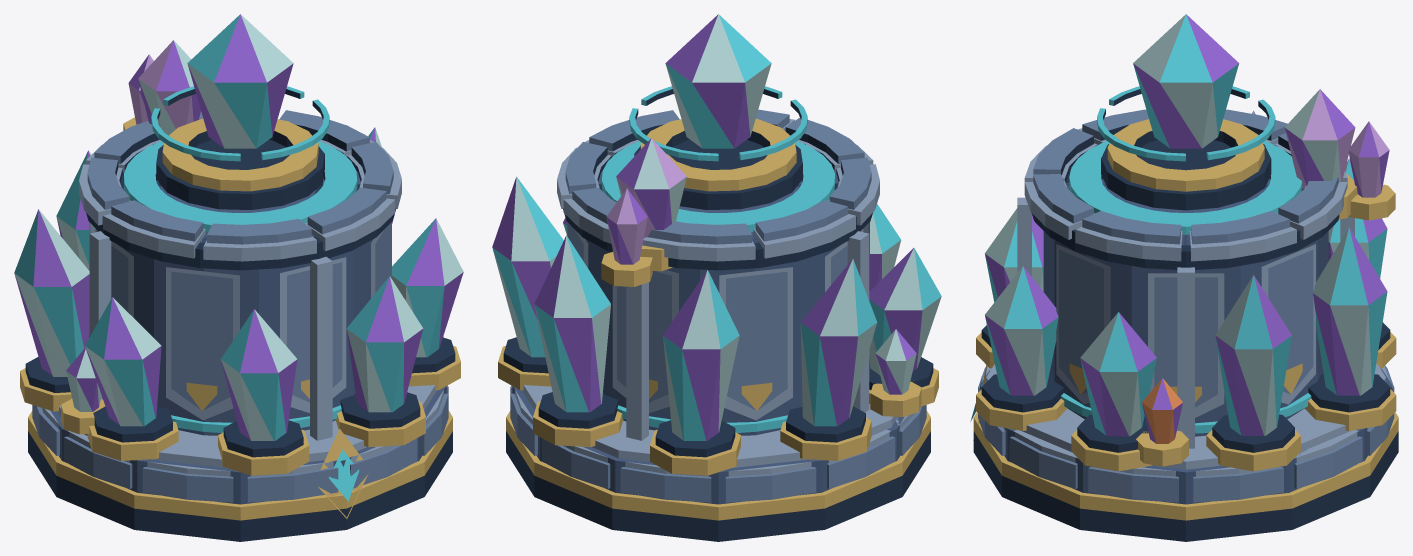
The model's file is modular-chassis-tier-4.glb.
The picture shows the model from 3 angles, left to right: view 1: azimuth 30°, elevation 25°; view 2: azimuth 150°, elevation 25°; view 3: azimuth 270°, elevation 25°; orthographic projection.
Visible parts, largest first — view 1: body, core-energy; view 2: body, core-energy; view 3: body, core-energy.
Boxes of the visible parts, x1,y1,x2,y2 form: body: (14, 40, 463, 541); core-energy: (151, 14, 329, 161); body: (492, 109, 941, 541); core-energy: (629, 14, 807, 161); body: (970, 89, 1398, 541); core-energy: (1097, 14, 1275, 161).
Bounding box in the file's own units: 1.48 × 1.64 × 1.45.
